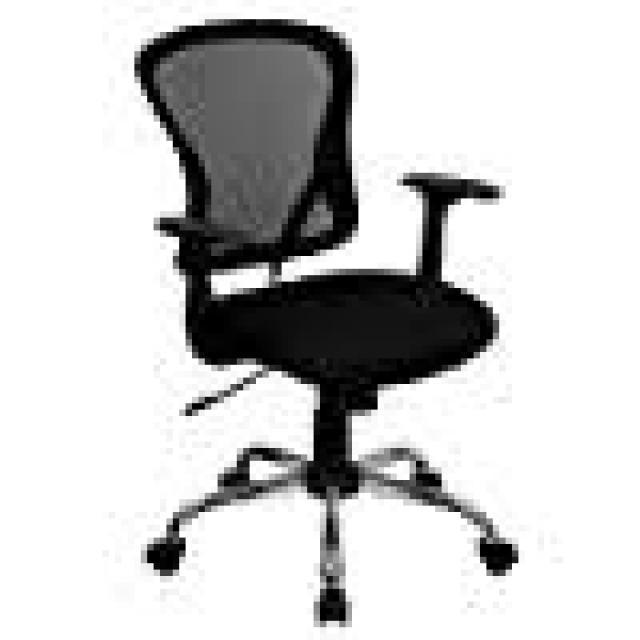chair: (96, 13, 557, 640)
